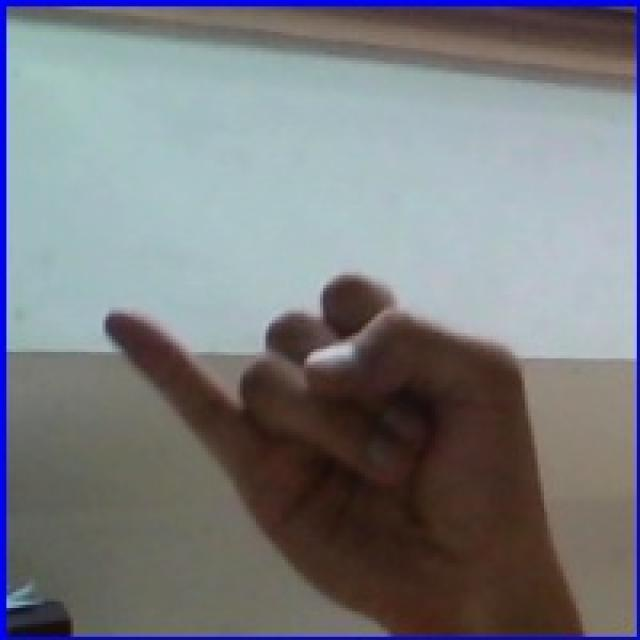J: (66, 188, 606, 630)
